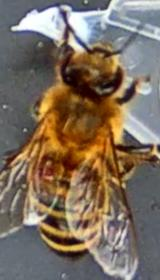varroa_mite: (30, 156, 61, 188)
